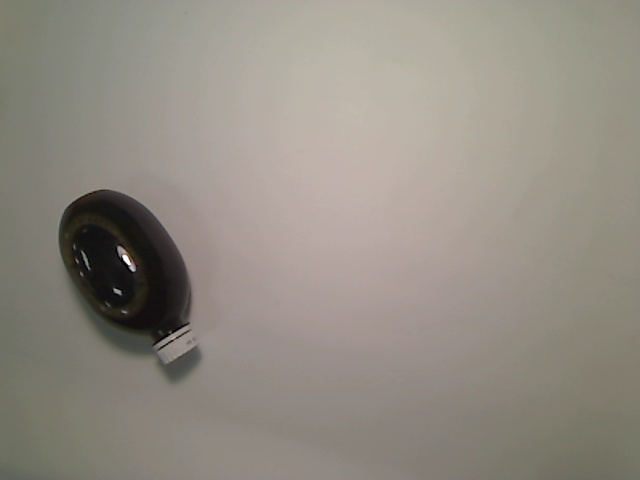plast_bottle: (57, 188, 203, 370)
